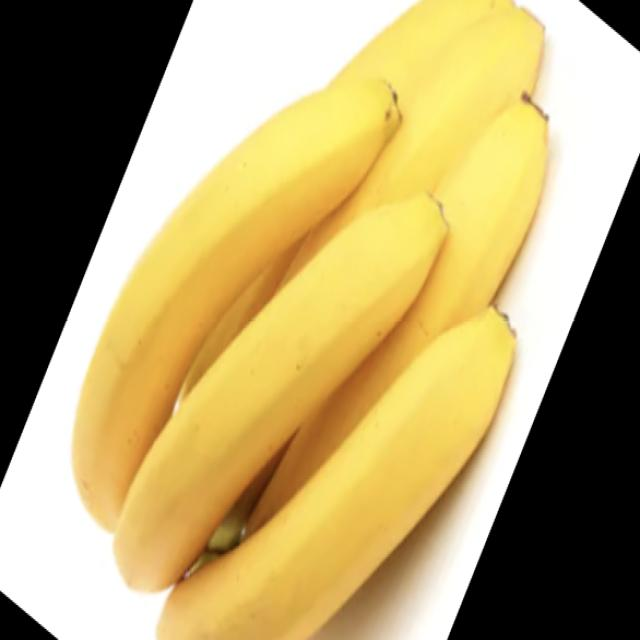banana: (62, 28, 563, 640)
